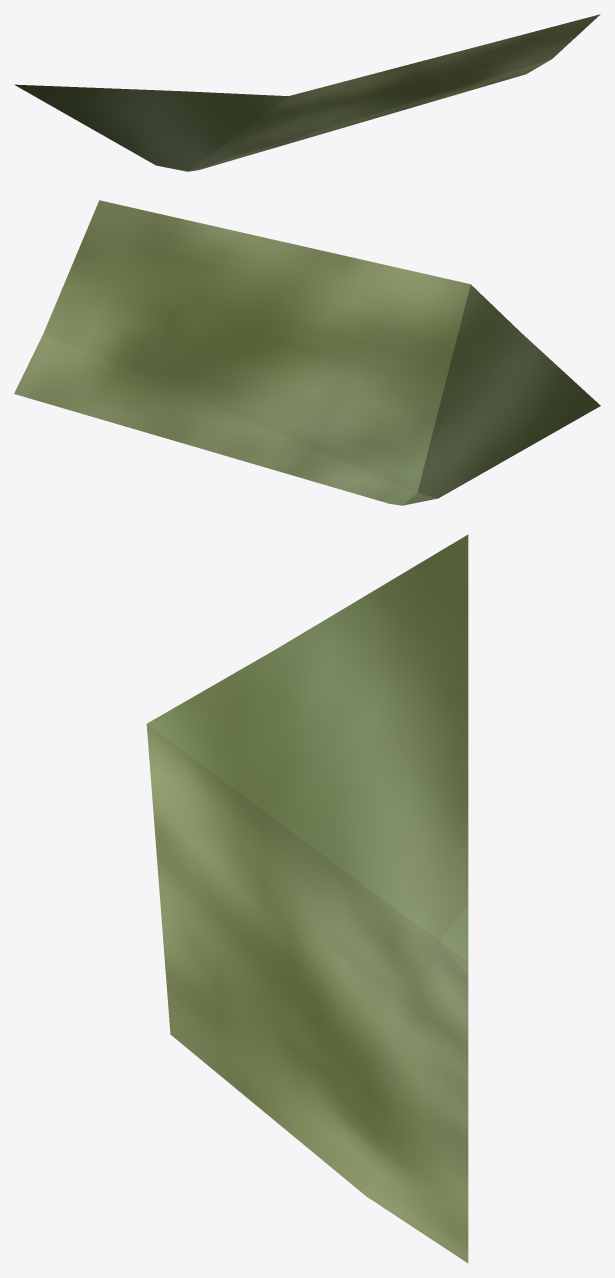
The picture shows the model from 3 angles, top to bottom: view 1: azimuth 30°, elevation 25°; view 2: azimuth 150°, elevation 25°; view 3: azimuth 270°, elevation 25°; orthographic projection. The views are drawn at different scales.
Bounding box in the file's own units: 0.3865 × 0.0941 × 0.105.
Materials: 1 (1 with a texture image).
